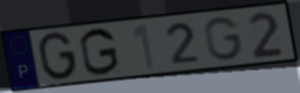1: (132, 24, 156, 70)
2: (245, 9, 286, 60), (164, 22, 202, 66)
G: (77, 26, 121, 77), (37, 31, 79, 82), (202, 16, 245, 63)
